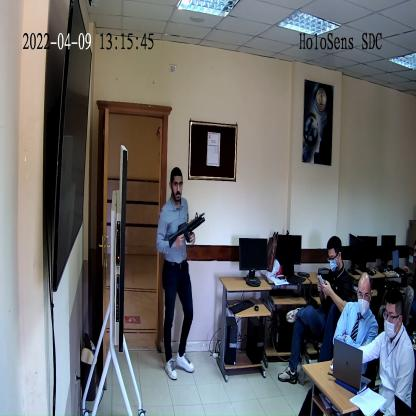handgun: (168, 209, 205, 247)
